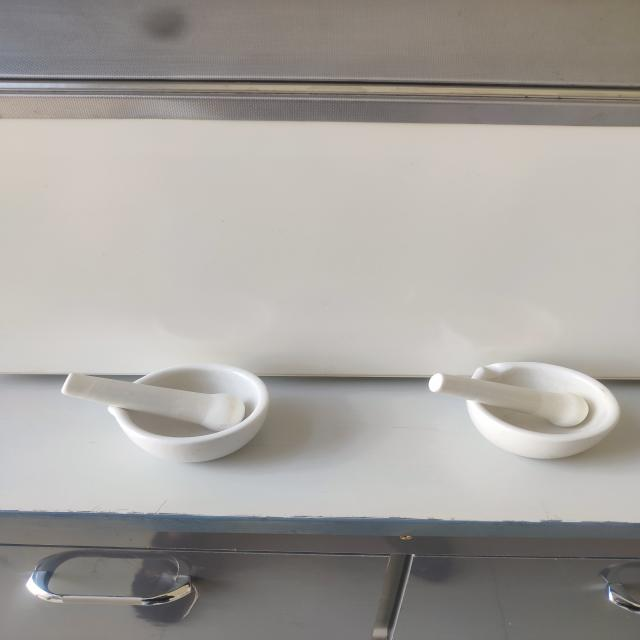Porcelain_Mortar Pestle: (34, 318, 299, 484), (408, 324, 640, 479)
